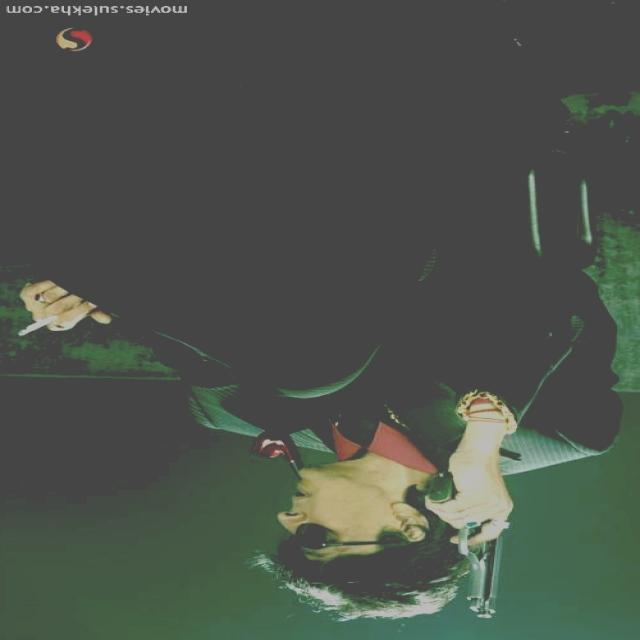gun: (401, 456, 542, 635)
